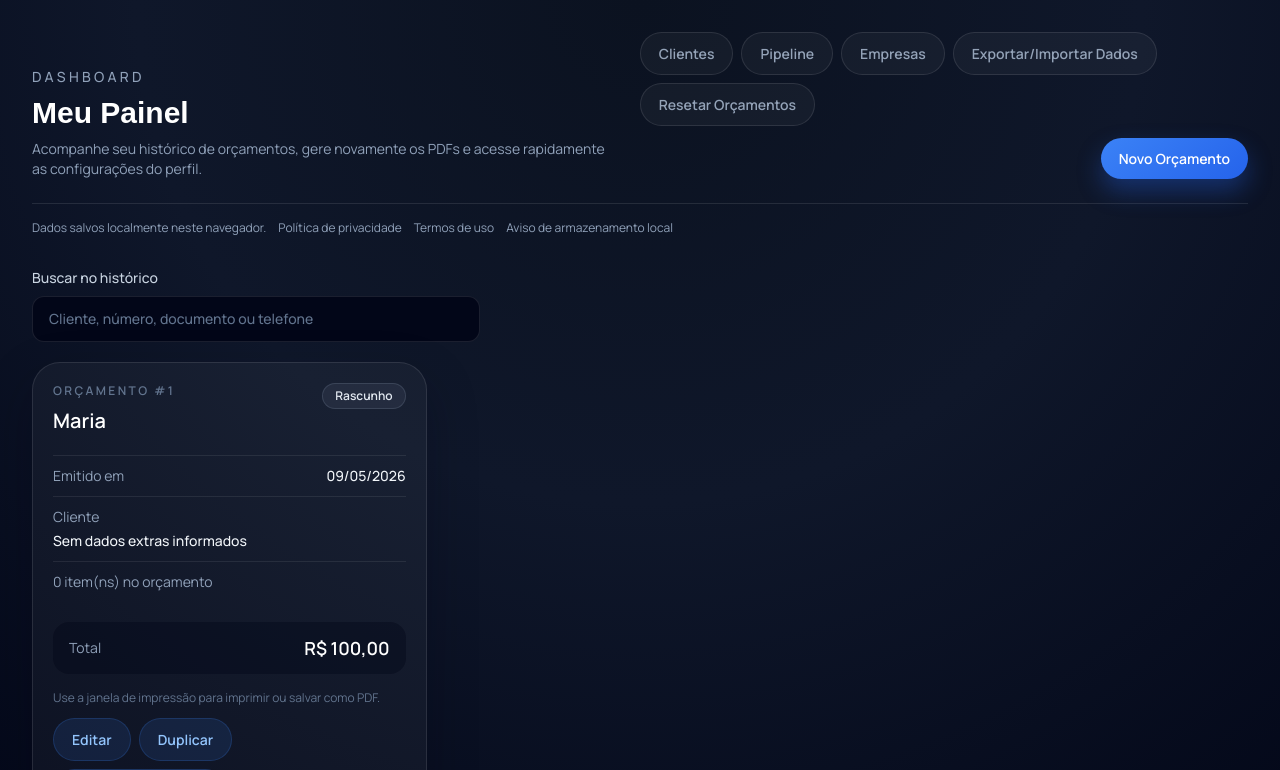
Test case: HomePage additional flows › shows no results state for unmatched searches
Step 1. Type "zzzz" into the field labelled "Buscar no histórico" → (256, 319), box [32, 296, 480, 342]
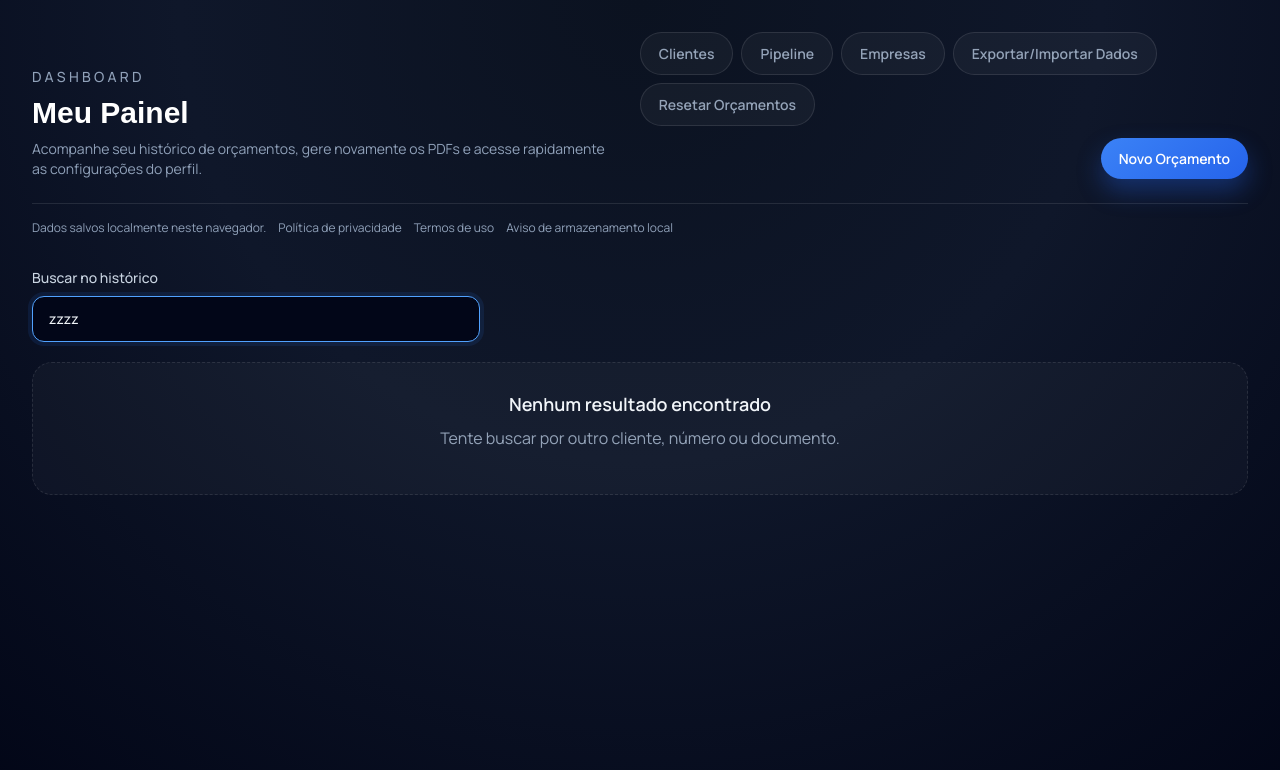
Expected: the heading "Nenhum resultado encontrado" is shown, [509, 392, 771, 416]
